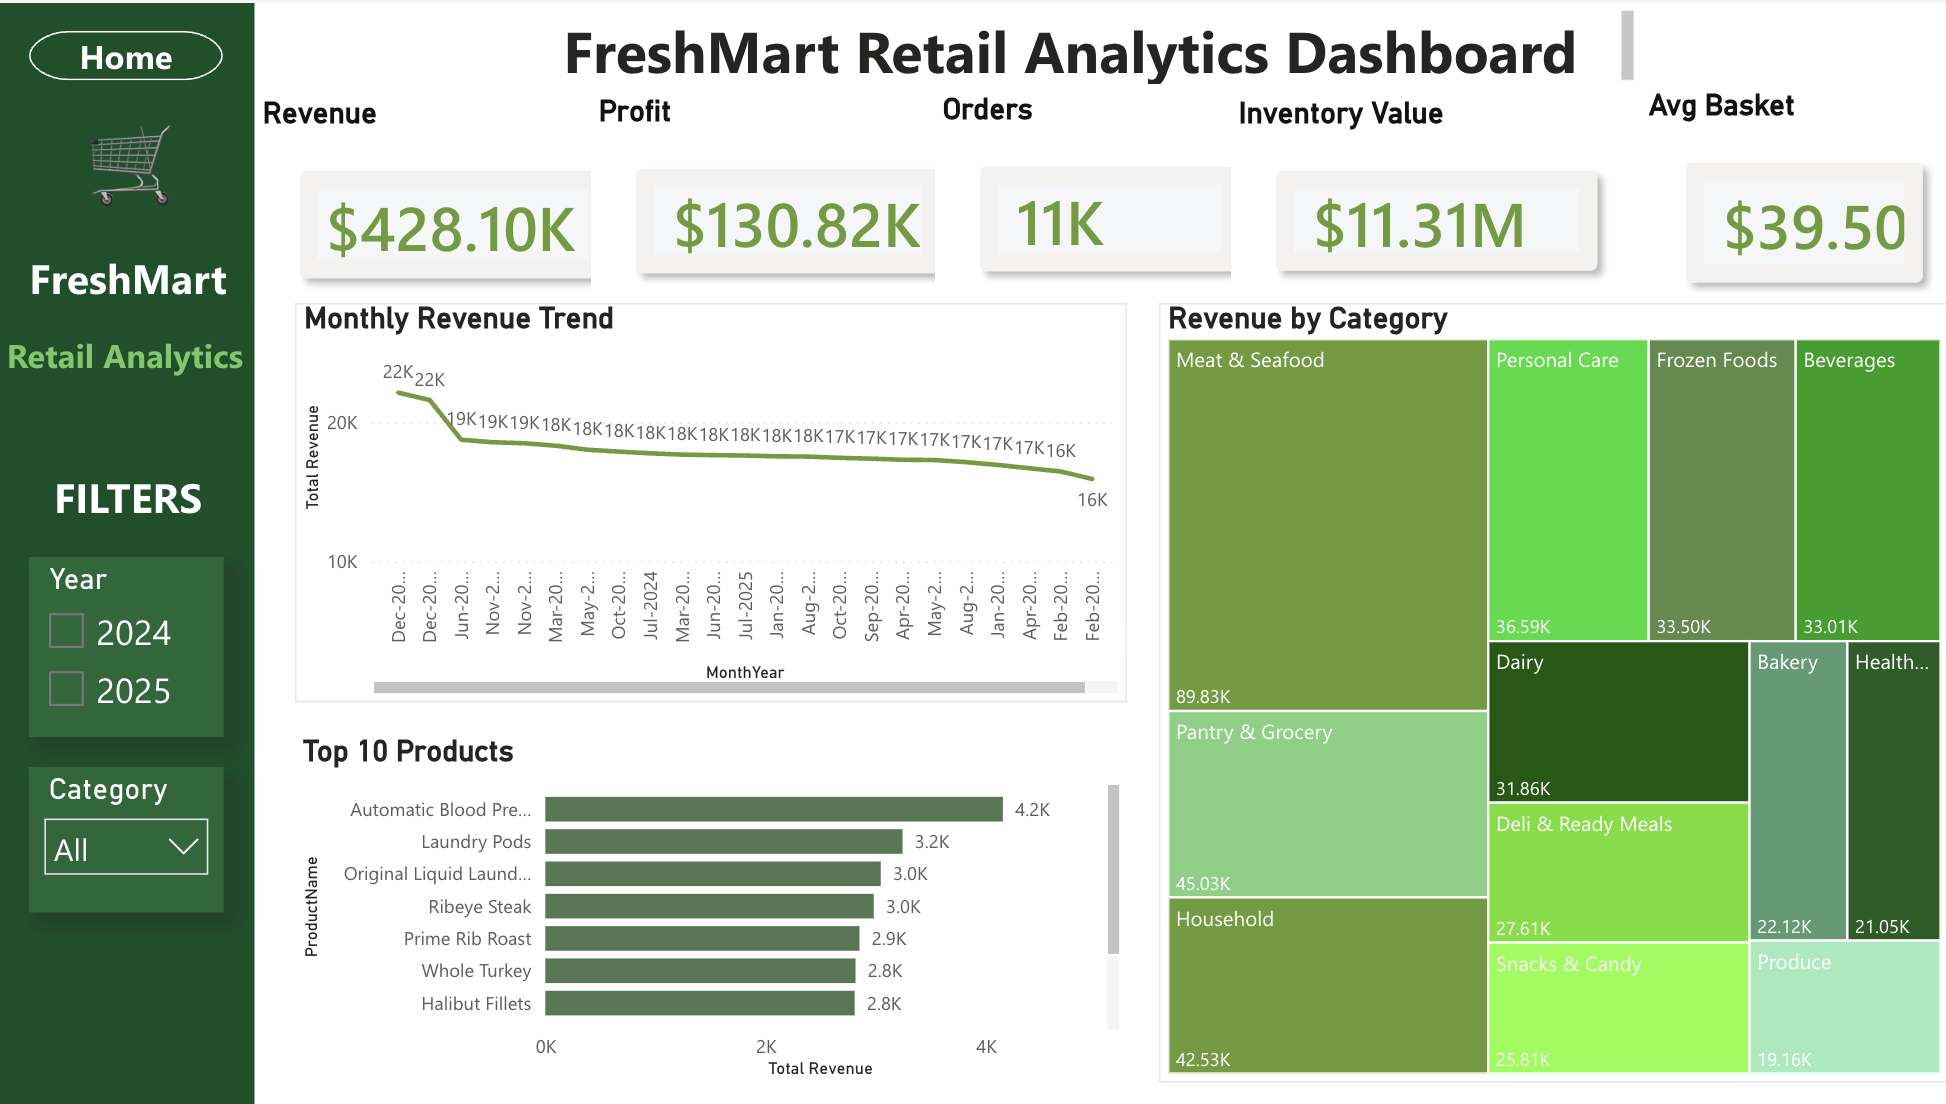

The dashboard page shown, as its layout file describes it:
{"tool":"powerbi","page":{"name":"Executive Dashboard","canvas":[1280,720],"ordinal":1},"visuals":[{"type":"shape","box":[0,0,166.1,719.9],"z":0},{"type":"cardVisual","title":"Avg Basket ","fields":{"Data":["Measure.Average Basket"]},"box":[1067.2,57.6,212.8,153.6],"z":1000},{"type":"cardVisual","title":"Revenue ","fields":{"Data":["Measure.Total Revenue"]},"box":[166.4,62.4,257.6,145.6],"z":2000},{"type":"cardVisual","title":"Profit  ","fields":{"Data":["Measure.Gross Profit"]},"box":[384,60.8,256.3,144],"z":3000},{"type":"cardVisual","title":"Orders ","fields":{"Data":["Measure.Total Orders"]},"box":[608,59.2,227.8,144],"z":4000},{"type":"cardVisual","title":"Inventory Value","fields":{"Data":["Measure.Inventory Value"]},"box":[800,62.4,267.2,140.8],"z":5000},{"type":"lineChart","title":"Monthly Revenue Trend","fields":{"Category":["DateDimension.MonthYear"],"Y":["Measure.Total Revenue"]},"box":[192,195.6,540.4,259.6],"z":6000},{"type":"treemap","title":"Revenue by Category","fields":{"Group":["Categories.CategoryName"],"Values":["Measure.Total Revenue"]},"box":[753.8,195.6,513.8,506.7],"z":7000},{"type":"barChart","title":"Top 10 Products","fields":{"Category":["ProductMaster.ProductName"],"Y":["Measure.Total Revenue"]},"box":[192,476.8,540.4,225.8],"z":8000},{"type":"textbox","box":[332.8,0,734.4,57.6],"z":9000},{"type":"textbox","box":[1.6,280,164.8,249.6],"z":10000},{"type":"slicer","fields":{"Values":["DateDimension.Year"]},"box":[19.2,360,126.4,116.8],"z":11000},{"type":"pageNavigator","box":[19.2,17.6,126.4,32],"z":12000},{"type":"textbox","box":[0,49.6,166.4,265.6],"z":13000},{"type":"slicer","fields":{"Values":["Categories.CategoryName"]},"box":[19.2,496,126.4,94.4],"z":13002}]}

Visuals, with their boxes in screenshot pixels (x1, y1, x2, y2), scaled from the page's 1280x720 canvas onto the 1946x1104 screenshot:
shape: [left=0, top=0, right=253, bottom=1103]
"Avg Basket " cardVisual: [left=1622, top=88, right=1945, bottom=324]
"Revenue " cardVisual: [left=253, top=96, right=645, bottom=319]
"Profit  " cardVisual: [left=584, top=93, right=973, bottom=314]
"Orders " cardVisual: [left=924, top=91, right=1271, bottom=312]
"Inventory Value" cardVisual: [left=1216, top=96, right=1622, bottom=312]
"Monthly Revenue Trend" lineChart: [left=292, top=300, right=1113, bottom=698]
"Revenue by Category" treemap: [left=1146, top=300, right=1927, bottom=1077]
"Top 10 Products" barChart: [left=292, top=731, right=1113, bottom=1077]
textbox: [left=506, top=0, right=1622, bottom=88]
textbox: [left=2, top=429, right=253, bottom=812]
slicer - DateDimension.Year: [left=29, top=552, right=221, bottom=731]
pageNavigator: [left=29, top=27, right=221, bottom=76]
textbox: [left=0, top=76, right=253, bottom=483]
slicer - Categories.CategoryName: [left=29, top=761, right=221, bottom=905]
